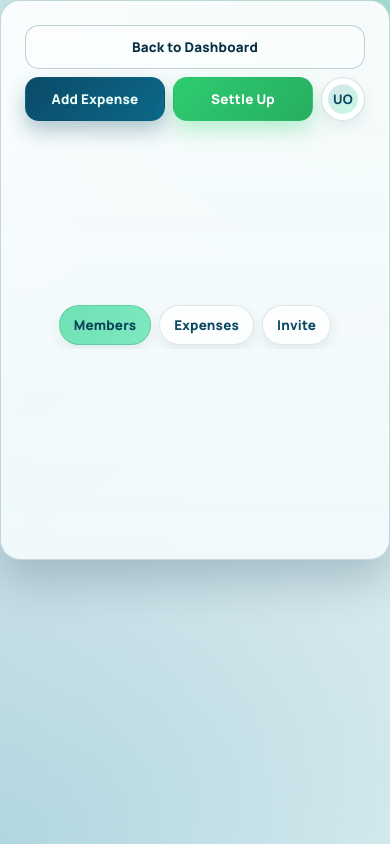
GroupView › renders settled expenses section inside Expenses tab when settled groups exist
The image size is (390, 844).
What coordinates should you click on to do the following:
click the button "Expenses"
I would click on:
 (207, 325)
Its box is [159,305,254,345].
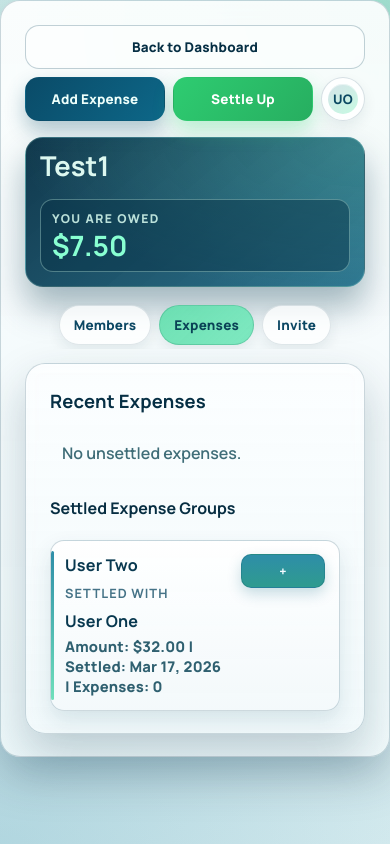
Now the heading "Settled Expense Groups" is shown, box [50,497,235,519]
